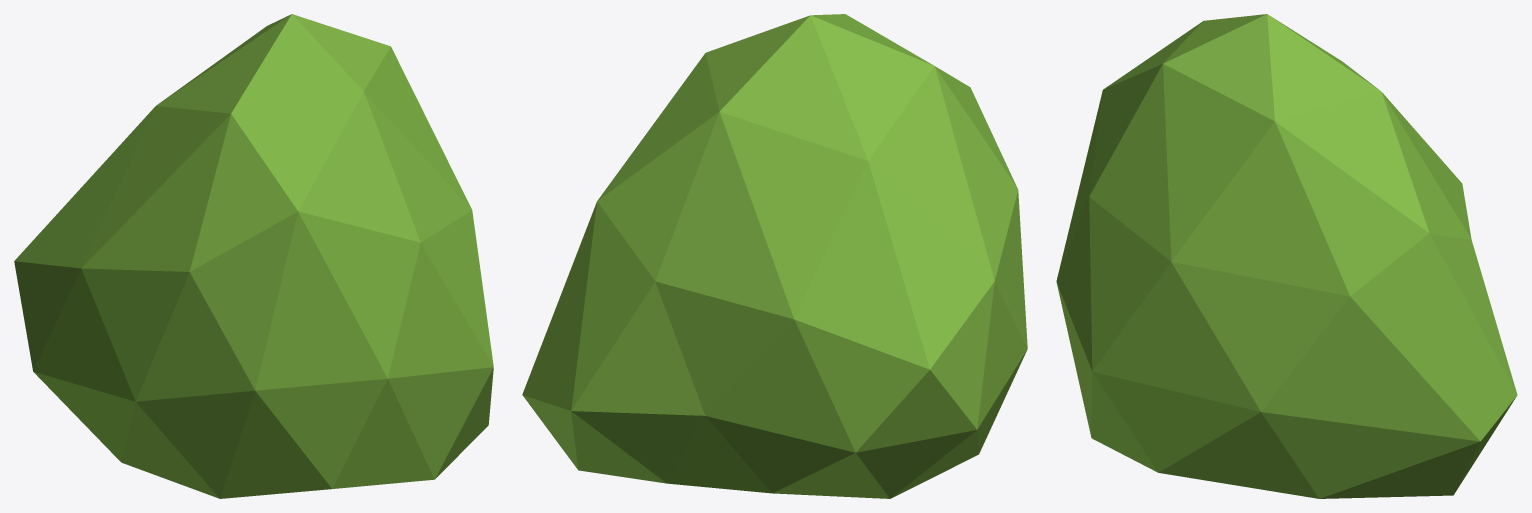
The model's file is bush2.gltf.
3 views of the same model, side by side, from view 1: azimuth 30°, elevation 25°; view 2: azimuth 150°, elevation 25°; view 3: azimuth 270°, elevation 25° (orthographic). The views are drawn at different scales.
Visible parts, largest first — view 1: Bush1_Bush1_1_0; view 2: Bush1_Bush1_1_0; view 3: Bush1_Bush1_1_0.
Part boxes in pixels (x1,y1,x2,y2): Bush1_Bush1_1_0: [14, 14, 493, 498]; Bush1_Bush1_1_0: [522, 14, 1027, 498]; Bush1_Bush1_1_0: [1056, 14, 1517, 498].
Size of the model in its own units: 2.46 by 2.55 by 2.55.
